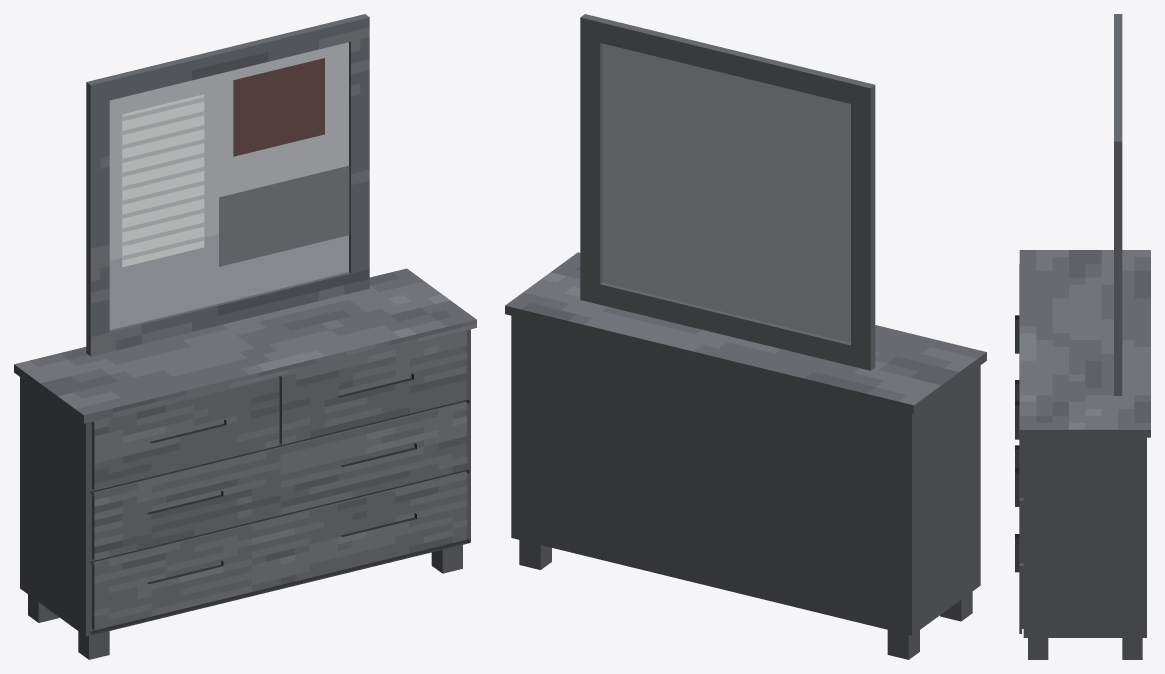
The model's file is dresser.glb.
3 renders of one model, left to right at view 1: azimuth 30°, elevation 25°; view 2: azimuth 150°, elevation 25°; view 3: azimuth 270°, elevation 25°, orthographic. The views are drawn at different scales.
Visible parts, largest first — view 1: root; view 2: root; view 3: root.
Boxes of the visible parts, <box> form: root: <box>14,14,476,659</box>; root: <box>505,14,986,659</box>; root: <box>1015,14,1150,659</box>.
Size of the model in its own units: 1.52 by 1.96 by 0.4862.
